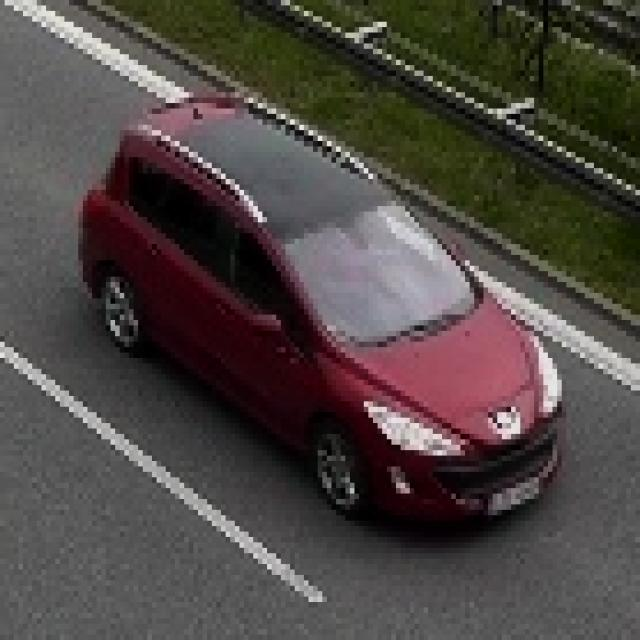maroon: (83, 91, 562, 534)
